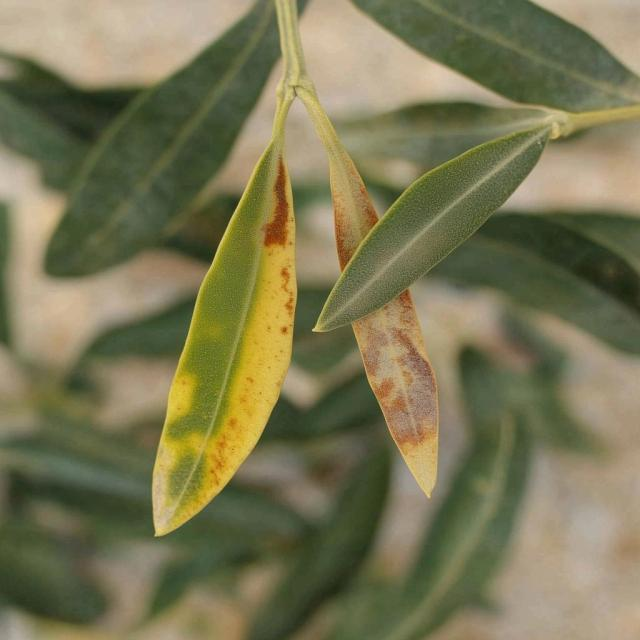OlivePeacockSpot: (152, 146, 296, 536), (352, 293, 438, 497)
